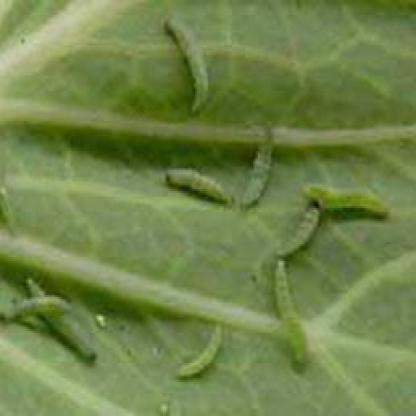armyworm: (21, 275, 108, 369), (158, 10, 212, 123), (271, 259, 312, 378), (299, 175, 391, 227), (234, 113, 278, 217), (271, 194, 331, 270), (155, 162, 239, 212), (175, 320, 226, 385), (0, 289, 76, 326)
